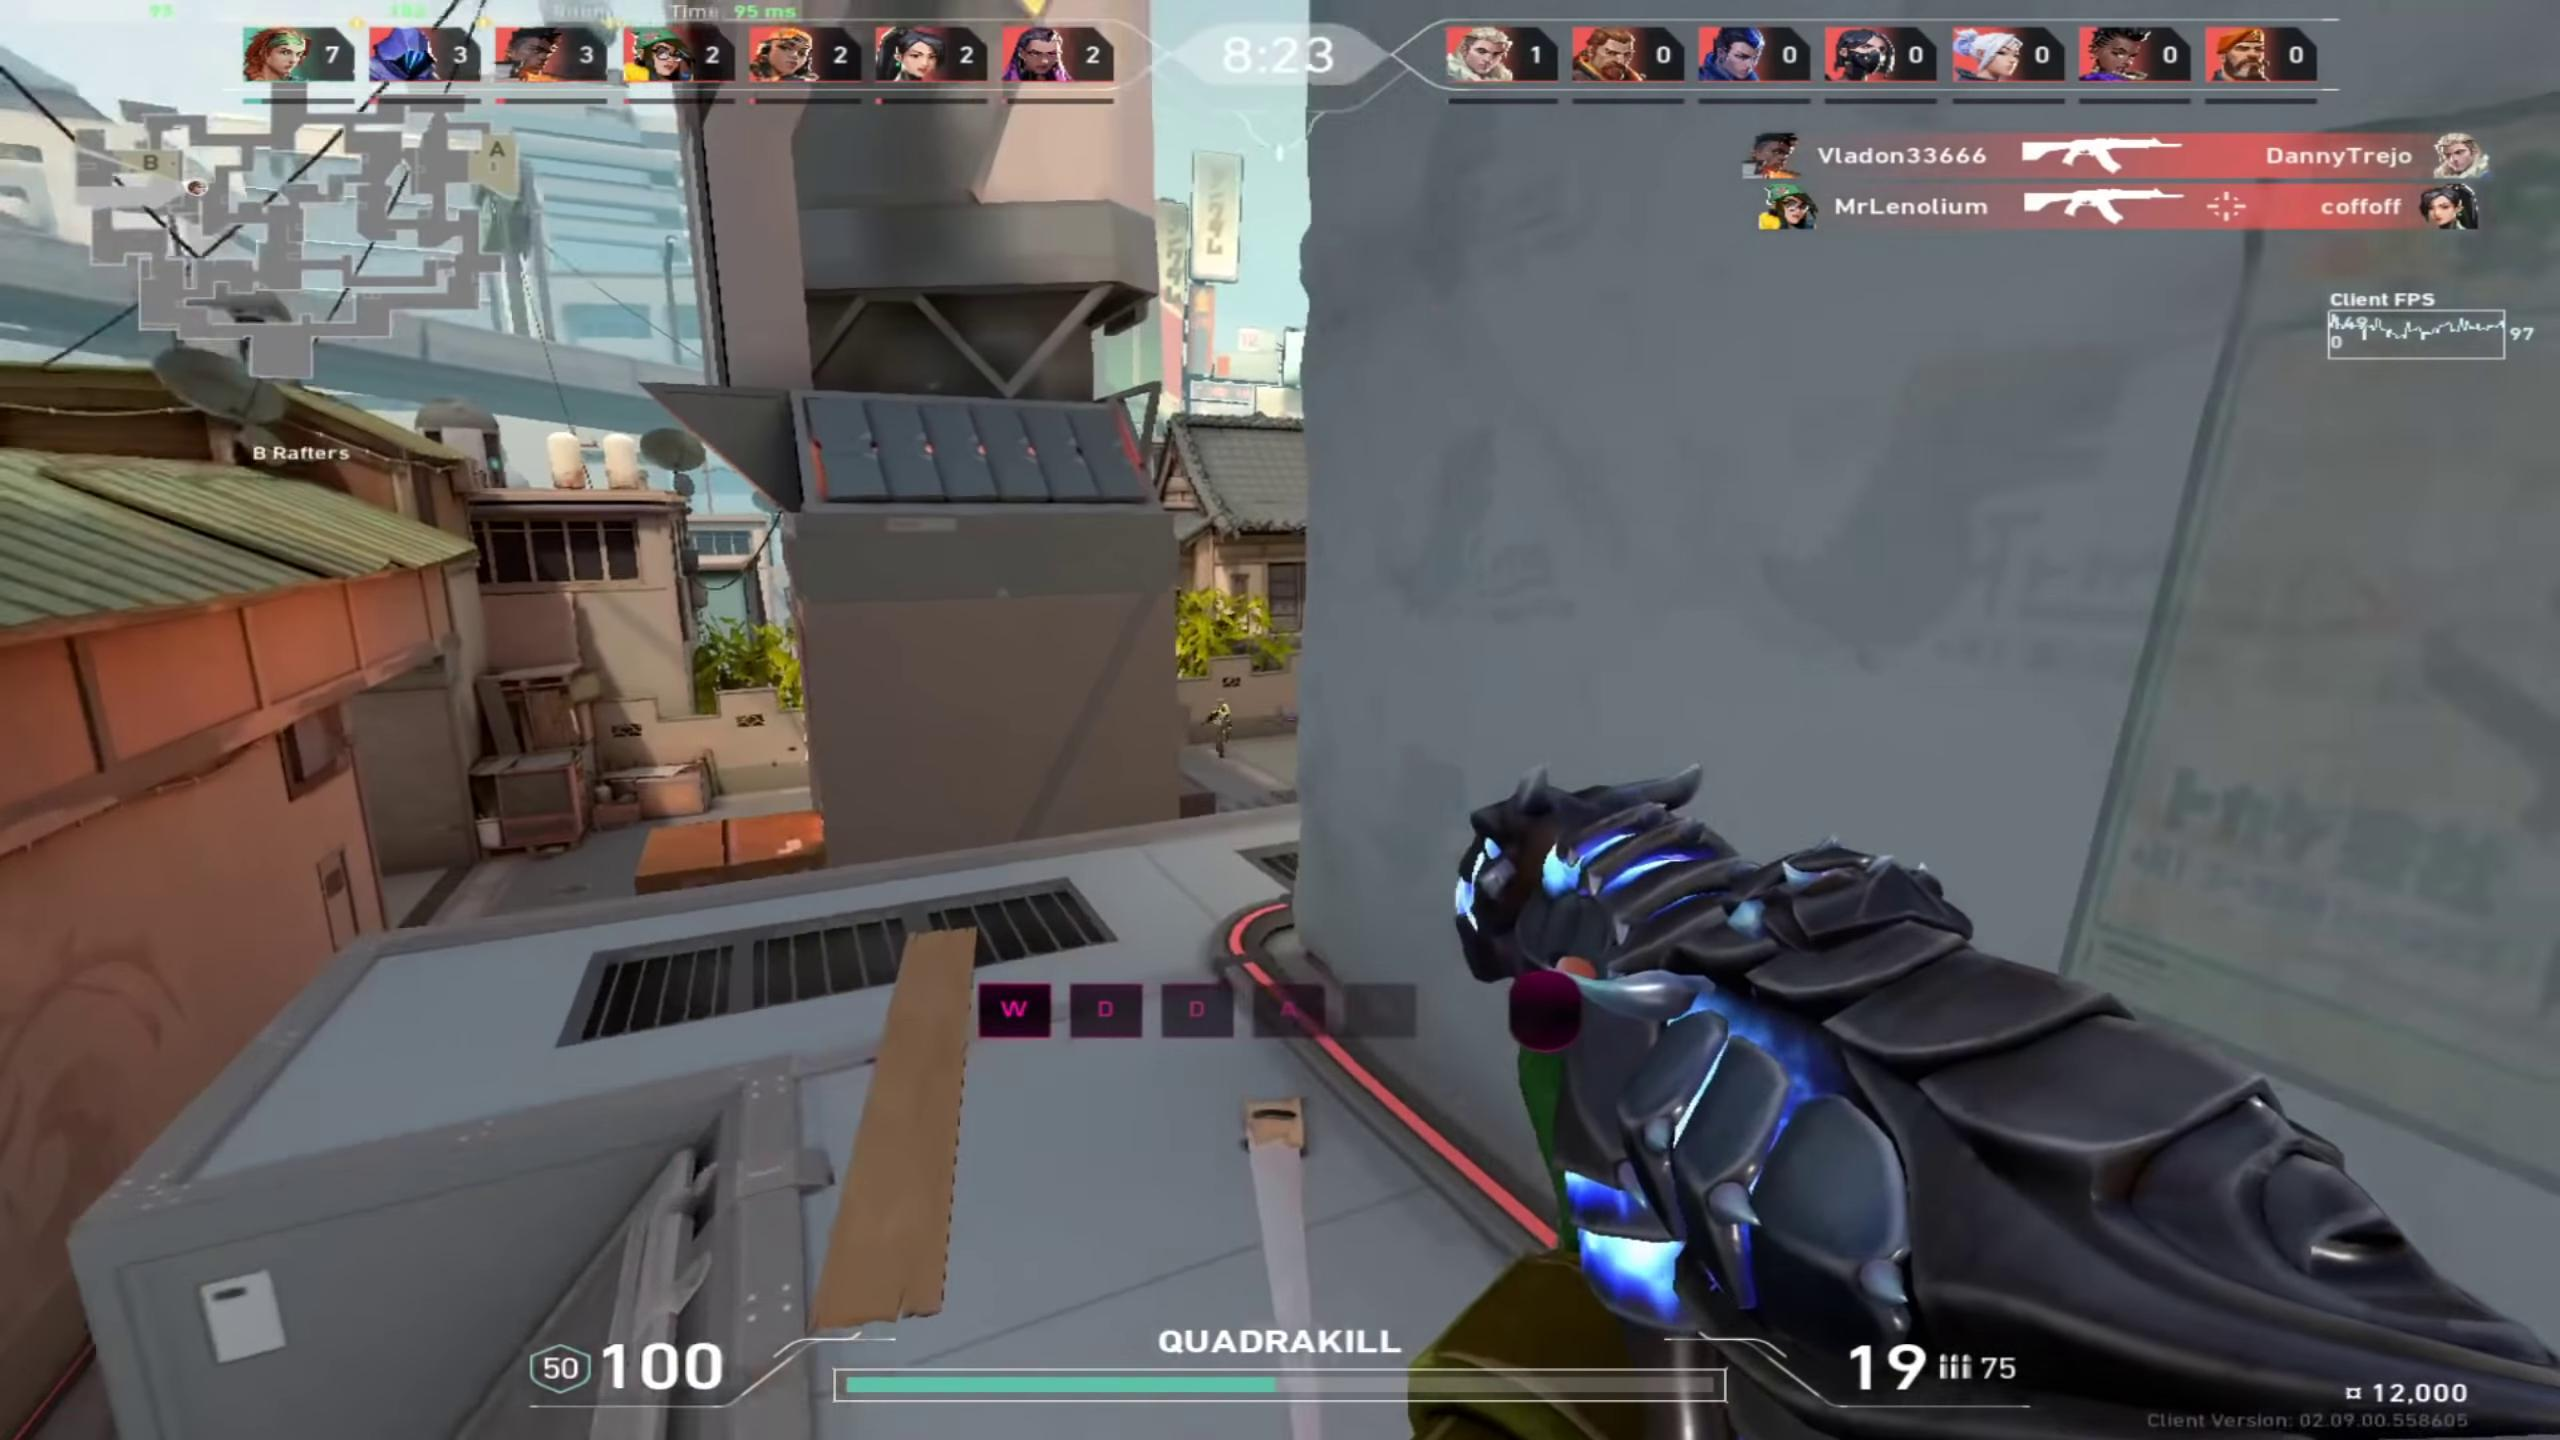Body: (1199, 698, 1234, 761)
